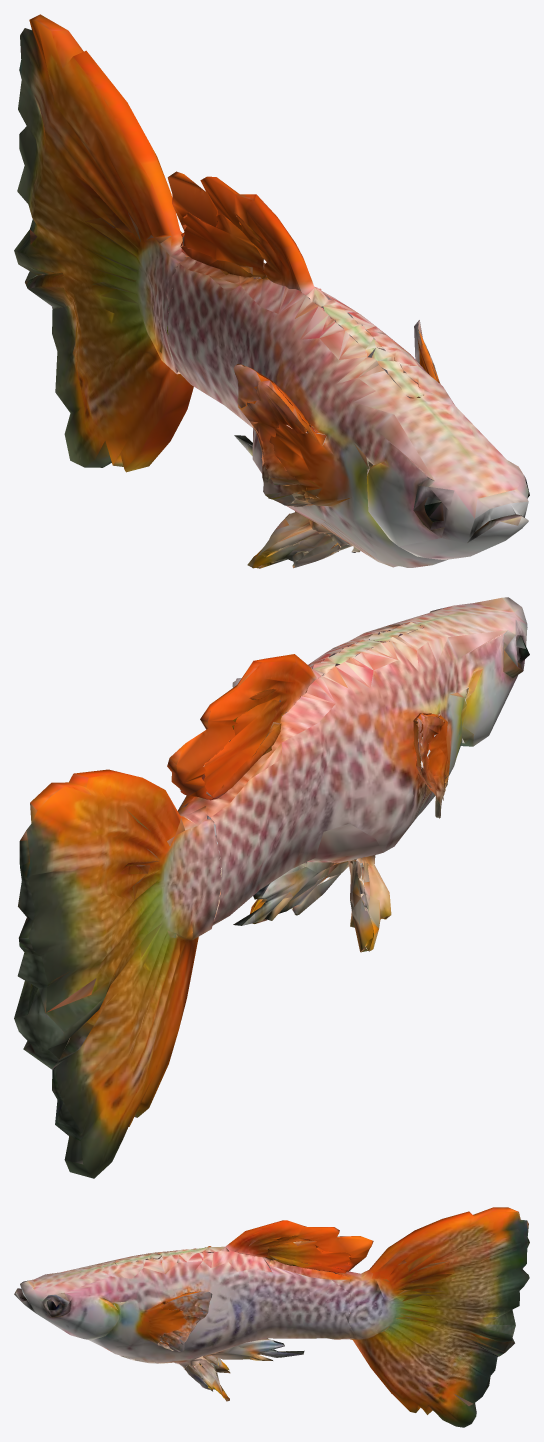
Rendered from strain-red_snakeskin_fan.lo.glb.
3 views of the same model, one above another, from view 1: azimuth 30°, elevation 25°; view 2: azimuth 150°, elevation 25°; view 3: azimuth 270°, elevation 25° (orthographic). The views are drawn at different scales.
Parts seen in each view (by area): view 1: Mesh_0.001; view 2: Mesh_0.001; view 3: Mesh_0.001.
Part boxes in pixels (box(x1,y1,x2,y2)): Mesh_0.001: box(14, 14, 529, 568); Mesh_0.001: box(14, 597, 529, 1178); Mesh_0.001: box(14, 1207, 529, 1427).
Bounding box in the file's own units: 0.00741 × 0.0156 × 0.0339.
Materials: 2 (2 with a texture image).
